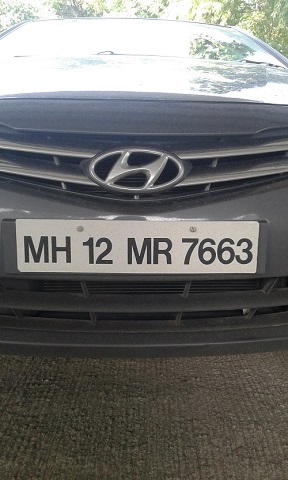licenseplate: (14, 214, 262, 278)
